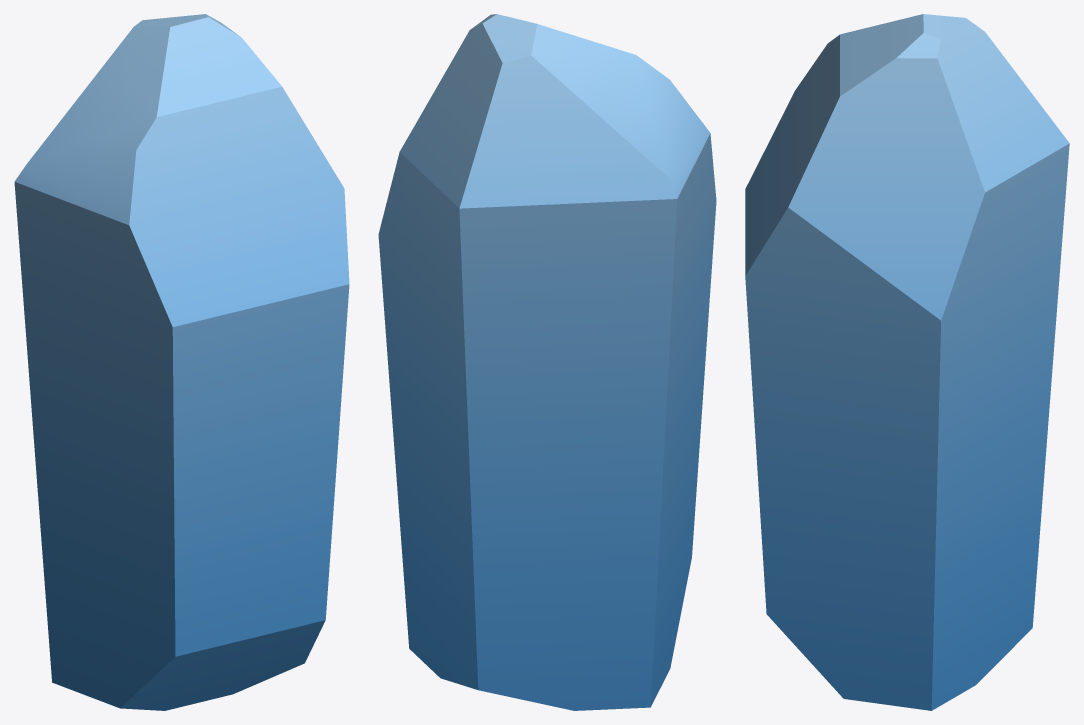
Rendered from Crystal_02.fbx.
3 renders of one model, left to right at view 1: azimuth 30°, elevation 25°; view 2: azimuth 150°, elevation 25°; view 3: azimuth 270°, elevation 25°, orthographic. The views are drawn at different scales.
Parts seen in each view (by area): view 1: Crystal_02_LOD0; view 2: Crystal_02_LOD0; view 3: Crystal_02_LOD0.
Boxes of the visible parts, bbox=[...] form: Crystal_02_LOD0: bbox=[14, 14, 349, 710]; Crystal_02_LOD0: bbox=[378, 14, 716, 710]; Crystal_02_LOD0: bbox=[745, 14, 1069, 710].
Size of what is drawn, in the model's own units: 0.4003 by 0.8662 by 0.3829.
